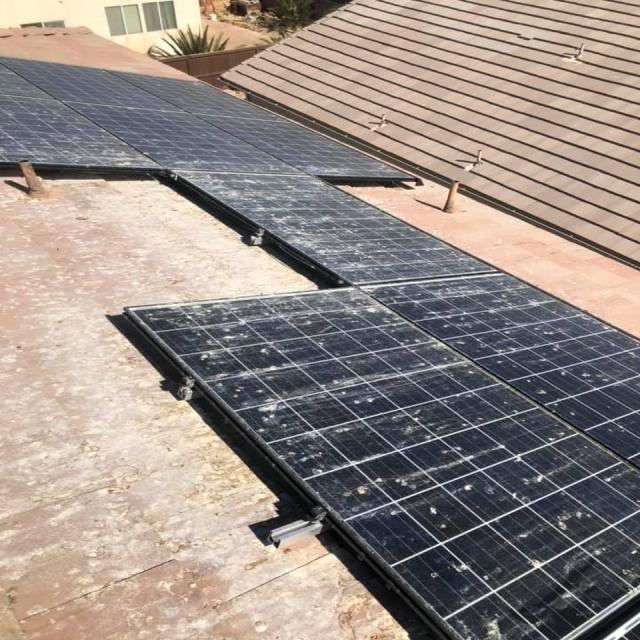soiled: (130, 269, 640, 639), (1, 58, 498, 278)
